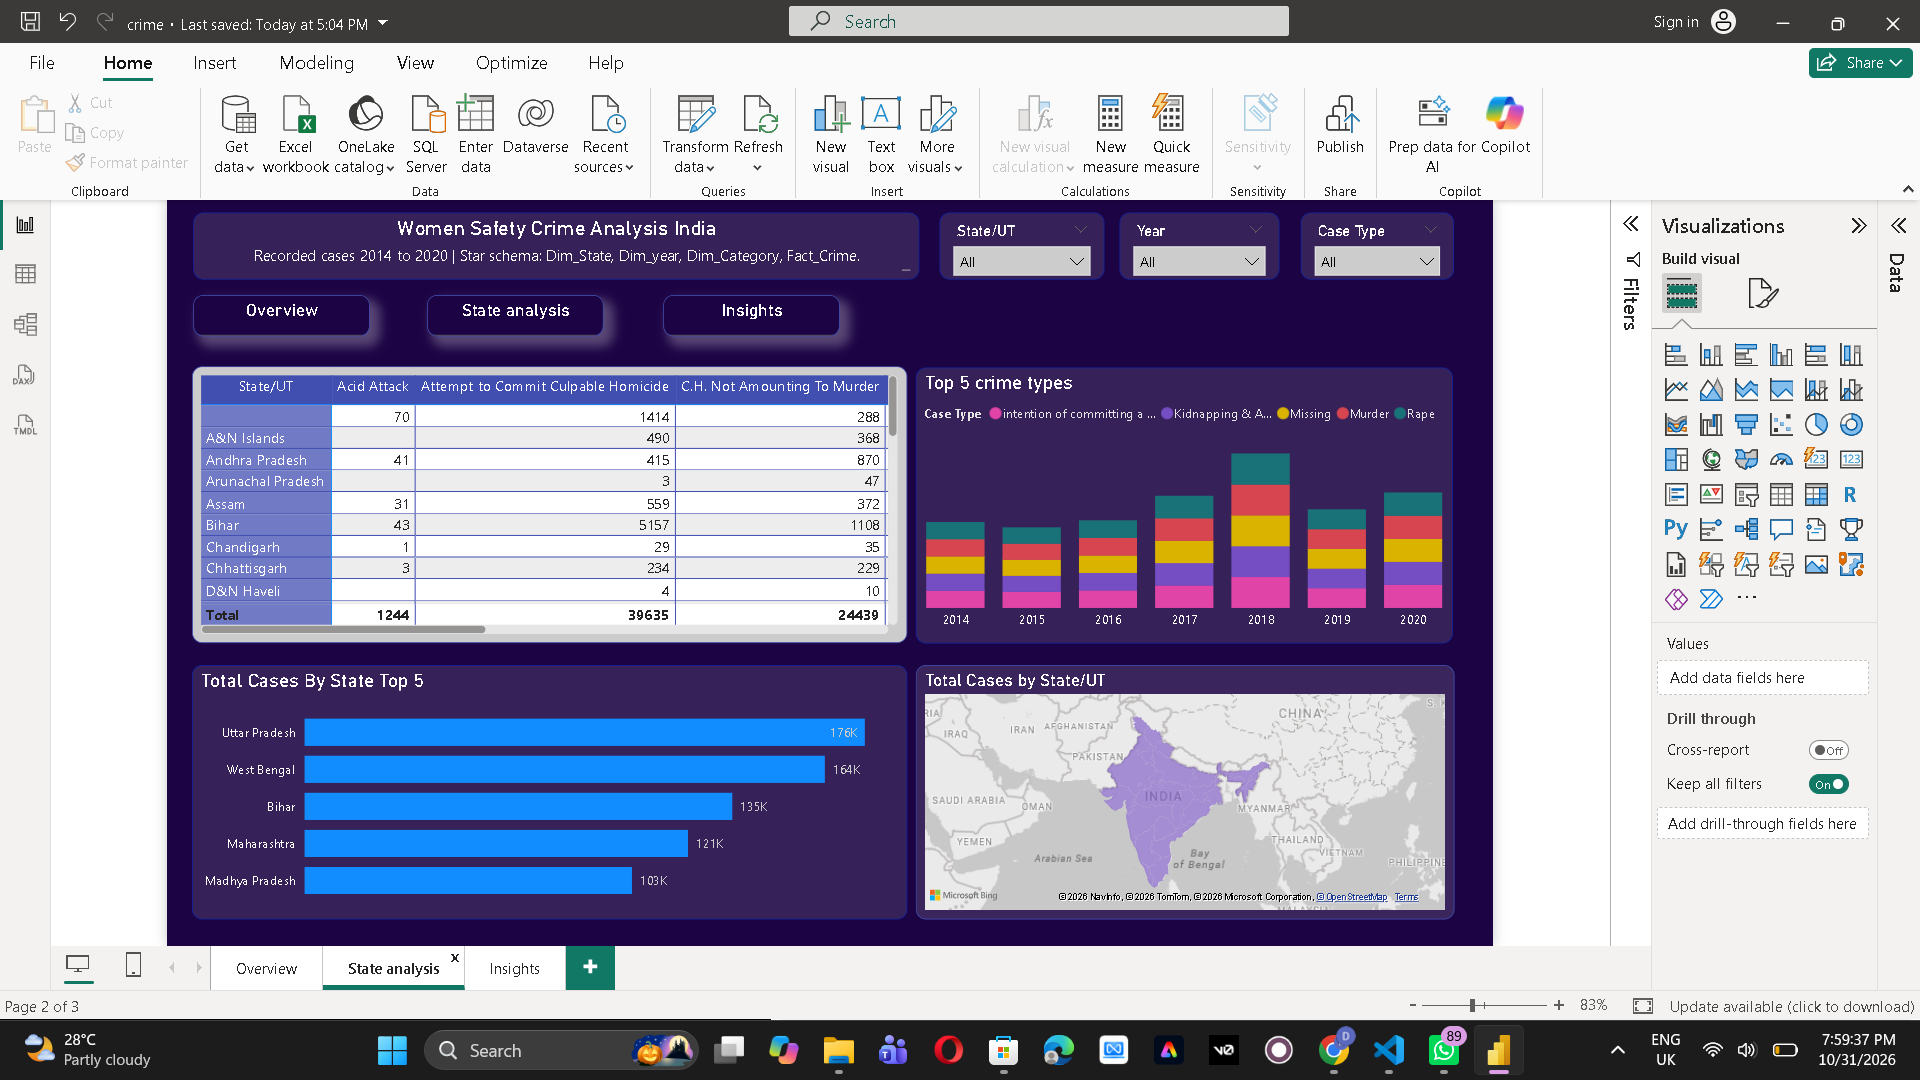

What the dashboard file says about the page in this screenshot:
{"tool":"powerbi","page":{"name":"State analysis","canvas":[1280,720],"ordinal":1},"visuals":[{"type":"textbox","title":"Women Safety Crime Analysis India  ","box":[25.3,12.1,700.9,65.1],"z":0},{"type":"slicer","fields":{"Values":["Dim_State.State/UT"]},"box":[745.6,12.1,159.3,65.1],"z":1000},{"type":"slicer","fields":{"Values":["Dim_year.Years"]},"box":[919.3,12.1,154.4,65.1],"z":2000},{"type":"slicer","fields":{"Values":["Dim_Category.Category"]},"box":[1094.2,12.1,148.4,65.1],"z":3000},{"type":"pivotTable","fields":{"Rows":["Dim_State.State/UT"],"Columns":["Fact_Crime.Case Type"],"Values":["Sum(Fact_Crime.Cases Reported)"]},"box":[25.3,160.5,1217.3,270.2],"z":4000},{"type":"filledMap","fields":{"Category":["Dim_State.State/UT"]},"box":[25.3,448.8,1217.3,246.1],"z":5000},{"type":"actionButton","title":"Overview","box":[25.3,91.7,170.1,39.8],"z":6000},{"type":"actionButton","title":"State analysis","box":[250.9,91.7,170.1,39.8],"z":7000},{"type":"actionButton","title":"Insights","box":[479,91.7,170.1,39.8],"z":8000}]}

Visuals, with their boxes on the page's 1280x720 design canvas (x1, y1, x2, y2). These are canvas units, not pixel positions in the 1920x1080 screenshot, which may show the page scaled, cropped or inside an application window:
"Women Safety Crime Analysis India  " textbox: <bbox>25, 12, 726, 77</bbox>
slicer - Dim_State.State/UT: <bbox>746, 12, 905, 77</bbox>
slicer - Dim_year.Years: <bbox>919, 12, 1074, 77</bbox>
slicer - Dim_Category.Category: <bbox>1094, 12, 1243, 77</bbox>
pivotTable - Dim_State.State/UT x Fact_Crime.Case Type: <bbox>25, 160, 1243, 431</bbox>
filledMap - Dim_State.State/UT: <bbox>25, 449, 1243, 695</bbox>
"Overview" actionButton: <bbox>25, 92, 195, 132</bbox>
"State analysis" actionButton: <bbox>251, 92, 421, 132</bbox>
"Insights" actionButton: <bbox>479, 92, 649, 132</bbox>
